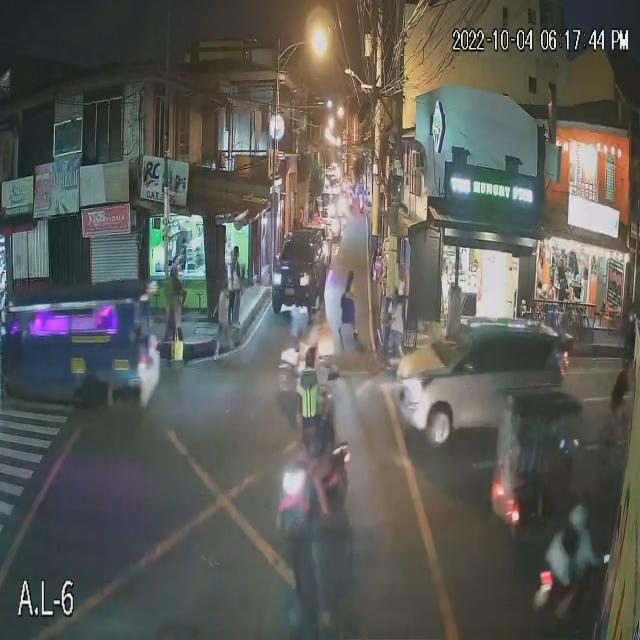helmet: (569, 508, 589, 527)
motorcycle: (281, 476, 358, 589), (540, 569, 594, 617)
rider: (563, 526, 587, 600), (307, 429, 330, 493)
